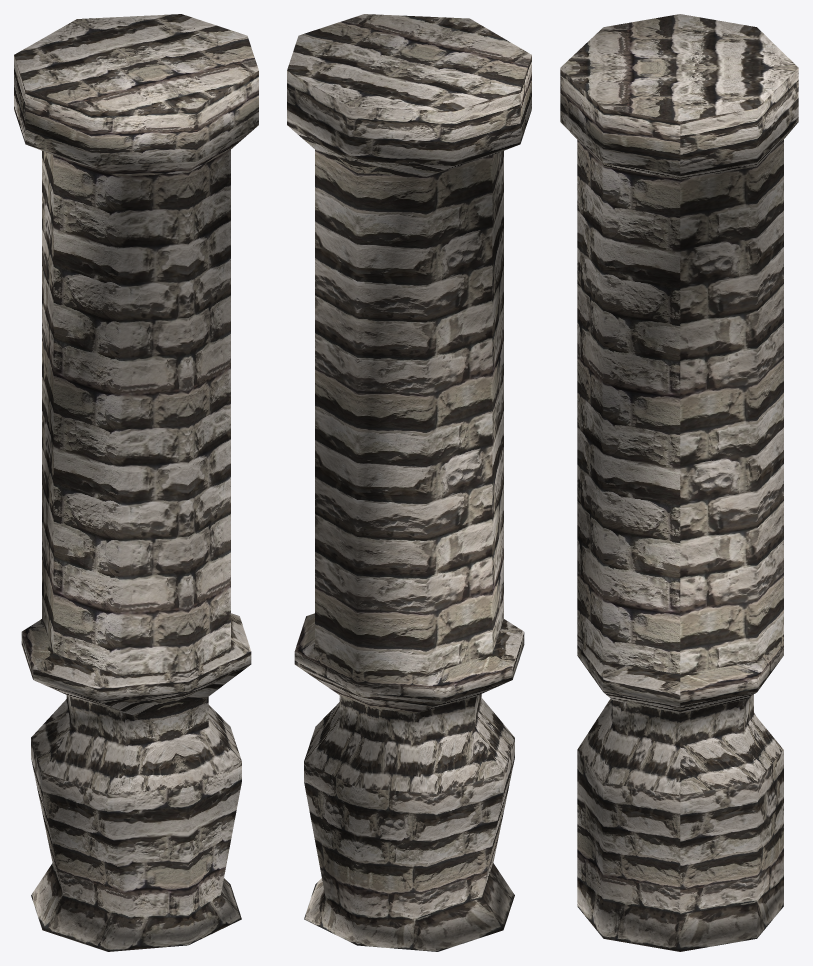
File: Nandini-pillar.fbx
3 views of the same model, side by side, from view 1: azimuth 30°, elevation 25°; view 2: azimuth 150°, elevation 25°; view 3: azimuth 270°, elevation 25° (orthographic).
Parts seen in each view (by area): view 1: Cube; view 2: Cube; view 3: Cube.
Part boxes in pixels (x1,y1,x2,y2): Cube: [14, 14, 258, 951]; Cube: [287, 14, 531, 951]; Cube: [560, 14, 798, 951].
Size of the model in its own units: 162 by 590 by 152.
